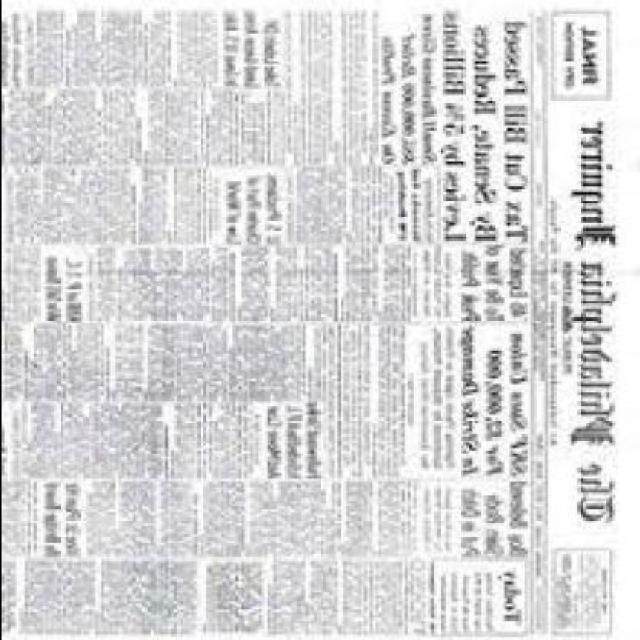PAPER: (1, 3, 638, 640)
